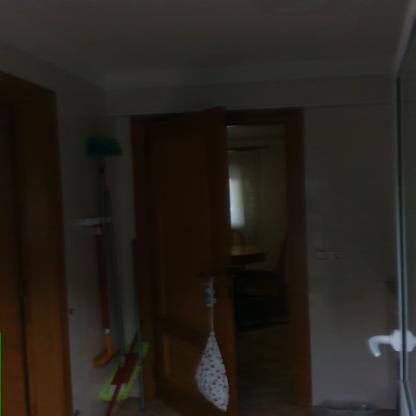semi: (110, 84, 328, 416)
